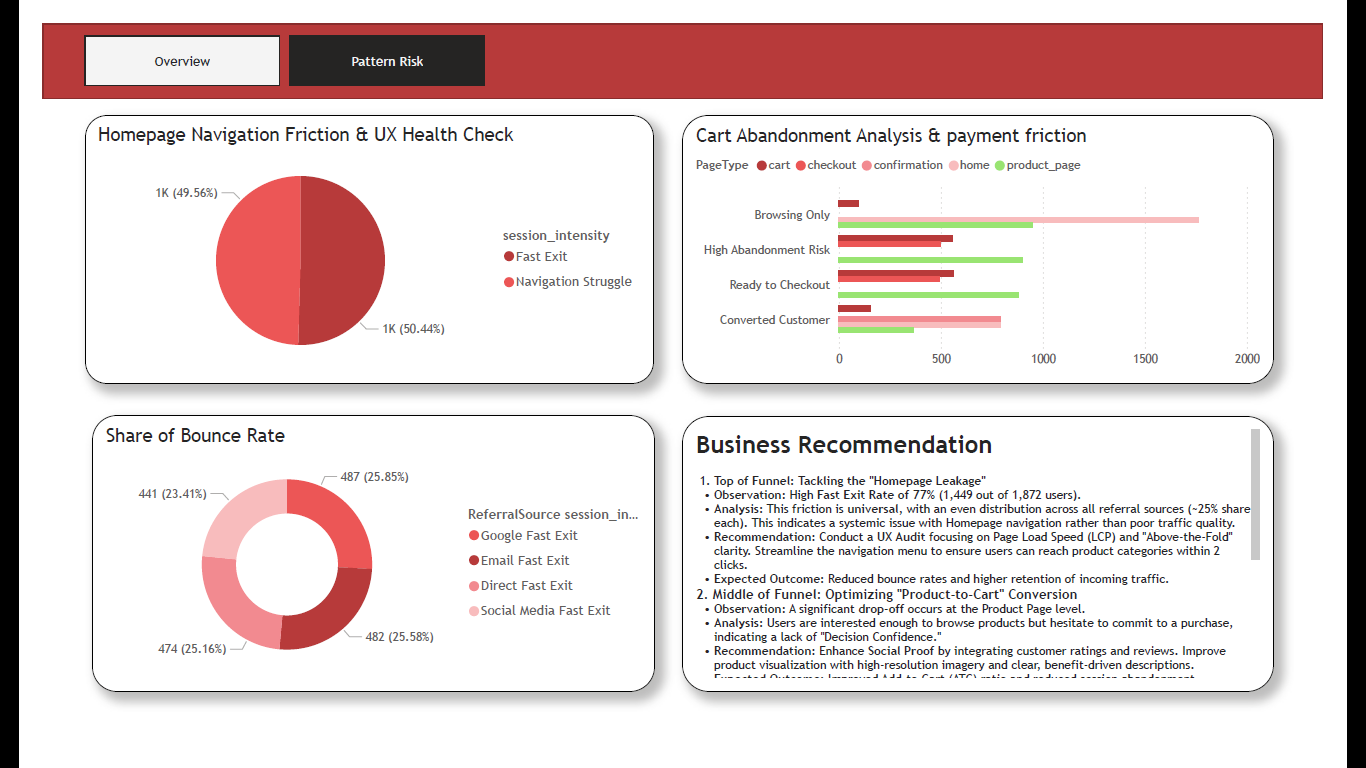

The dashboard page shown, as its layout file describes it:
{"tool":"powerbi","page":{"name":"Pattern Risk","canvas":[1280,720],"ordinal":1},"visuals":[{"type":"pieChart","title":"Homepage Navigation Friction & UX Health Check","fields":{"Category":["public customer_journey_clean.session_intensity"],"Series":["public customer_journey_clean.PageType"],"Y":["public customer_journey_clean.Total_Users"]},"box":[41.8,90.7,568.8,269.3],"z":0},{"type":"clusteredBarChart","title":"Cart Abandonment Analysis & payment friction","fields":{"Category":["public customer_journey_clean.cart_intention"],"Series":["public customer_journey_clean.PageType"],"Y":["public customer_journey_clean.Total_Users"]},"box":[639.4,90.7,591.8,269.3],"z":1000},{"type":"shape","box":[0,0,1280.2,74.9],"z":2000},{"type":"donutChart","title":"Share of Bounce Rate","fields":{"Category":["public customer_journey_clean.ReferralSource","public customer_journey_clean.session_intensity"],"Series":["public customer_journey_clean.PageType"],"Y":["public customer_journey_clean.Bounce_Users_Unique"]},"box":[48.9,390.8,563.5,276.8],"z":3000},{"type":"textbox","box":[639.4,391.7,591.8,276.5],"z":3001},{"type":"pageNavigator","box":[42,12,400,50],"z":3002}]}

Visuals, with their boxes in screenshot pixels (x1, y1, x2, y2), scaled from the page's 1280x720 canvas onto the 1366x768 screenshot:
"Homepage Navigation Friction & UX Health Check" pieChart: 45 97 652 384
"Cart Abandonment Analysis & payment friction" clusteredBarChart: 682 97 1314 384
shape: 0 0 1365 80
"Share of Bounce Rate" donutChart: 52 417 654 712
textbox: 682 418 1314 713
pageNavigator: 45 13 472 66
